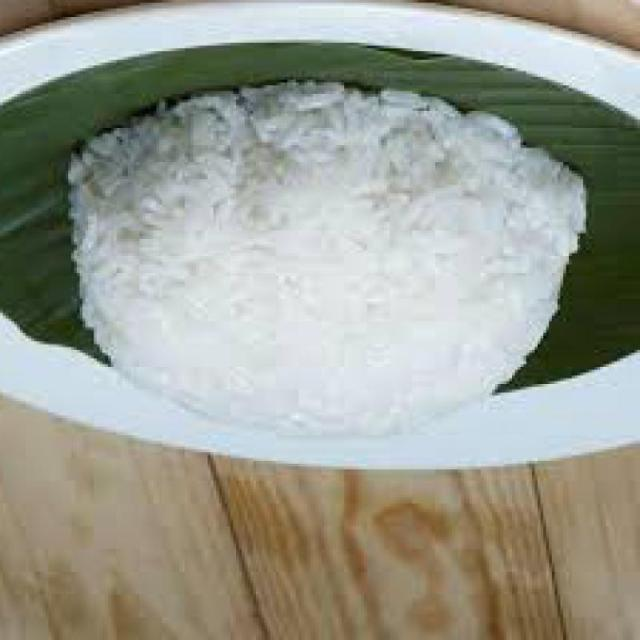nasi_putih: (65, 76, 588, 437)
